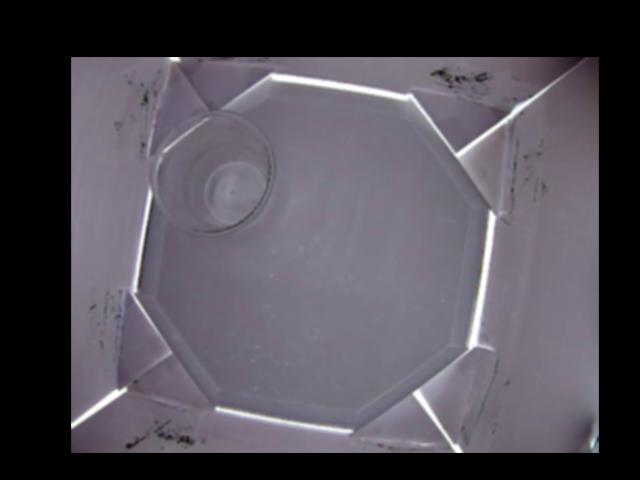Cup: (149, 107, 278, 237)
